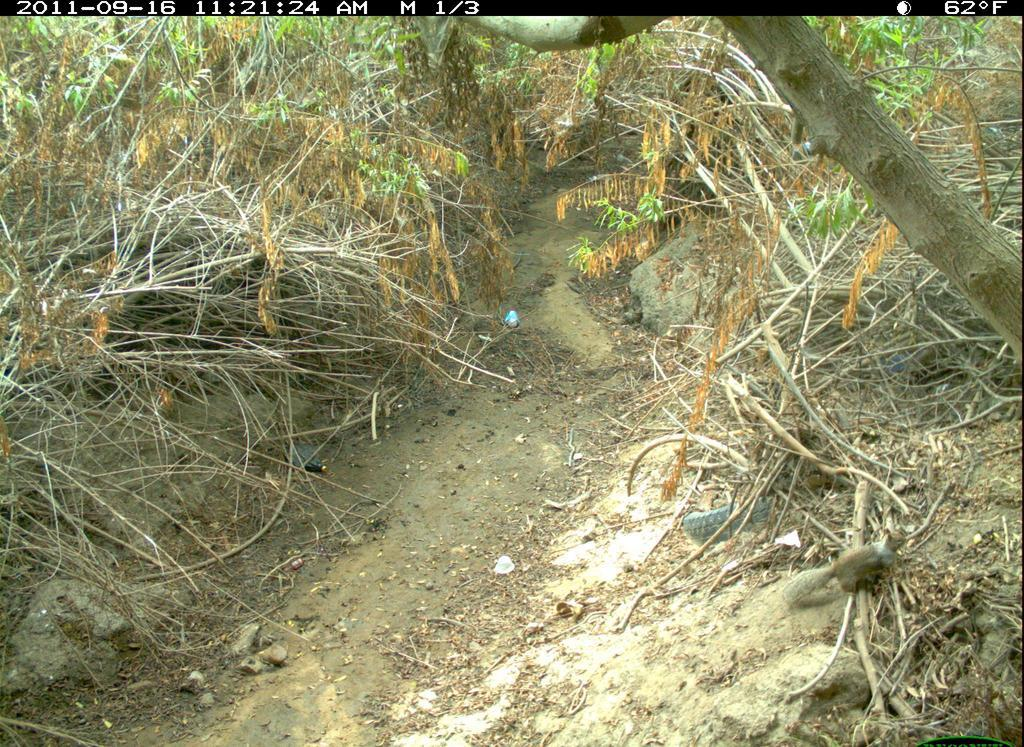squirrel: (760, 521, 922, 620)
